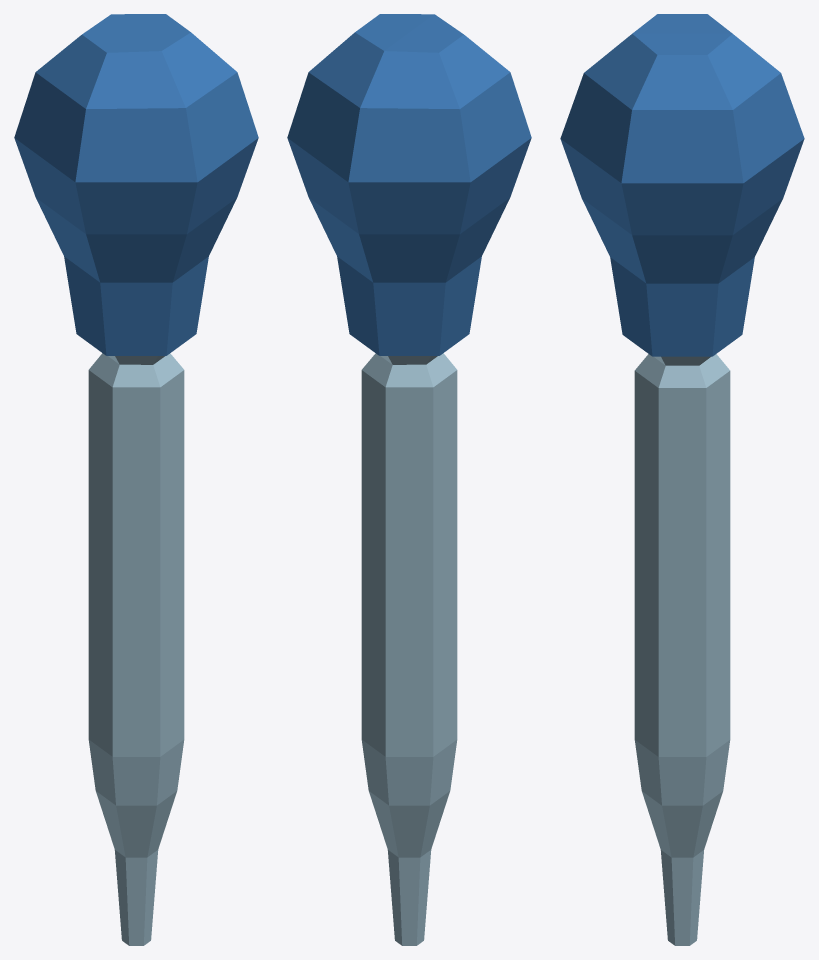
The model's file is SM_Prop_Dropper_01.fbx.
The picture shows the model from 3 angles, left to right: view 1: azimuth 30°, elevation 25°; view 2: azimuth 150°, elevation 25°; view 3: azimuth 270°, elevation 25°; orthographic projection.
Parts seen in each view (by area): view 1: SM_Prop_Dropper_01; view 2: SM_Prop_Dropper_01; view 3: SM_Prop_Dropper_01.
Boxes of the visible parts, box(x1,y1,x2,y2) form: SM_Prop_Dropper_01: box(14, 14, 258, 945); SM_Prop_Dropper_01: box(287, 14, 531, 945); SM_Prop_Dropper_01: box(560, 14, 804, 945).
Bounding box in the file's own units: 6.38 × 30.2 × 7.37.
